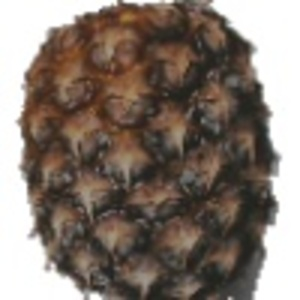abacaxi: (17, 2, 283, 298)
